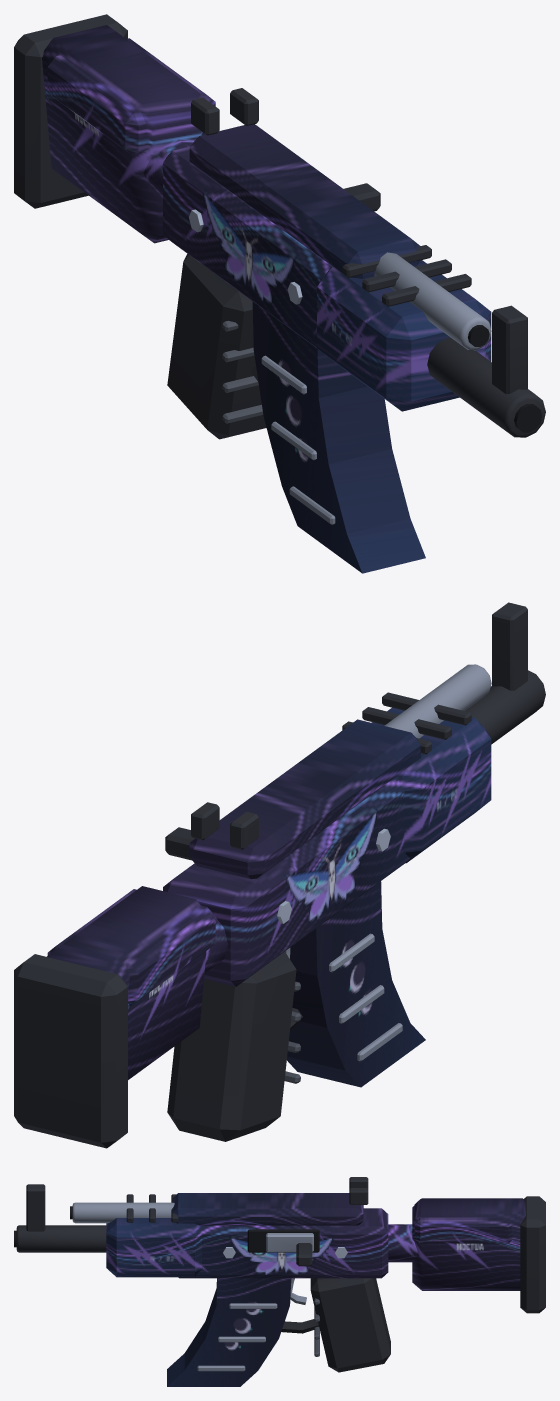
Rendered from AK_DeathMoth.glb.
3 renders of one model, top to bottom at view 1: azimuth 30°, elevation 25°; view 2: azimuth 150°, elevation 25°; view 3: azimuth 270°, elevation 25°, orthographic. The views are drawn at different scales.
Parts seen in each view (by area): view 1: Main, Stock, Magazine; view 2: Main, Stock, Magazine, Bolt; view 3: Main, Stock, Magazine, Bolt.
Part boxes in pixels (x1,y1,x2,y2): Main: [163, 88, 545, 439]; Stock: [14, 14, 215, 243]; Magazine: [252, 301, 425, 573]; Main: [163, 602, 545, 1141]; Stock: [14, 886, 227, 1148]; Magazine: [287, 881, 425, 1087]; Bolt: [165, 827, 194, 860]; Main: [14, 1177, 390, 1372]; Stock: [388, 1196, 545, 1313]; Magazine: [167, 1278, 291, 1386]; Bolt: [266, 1233, 313, 1266].
Size of the model in its own units: 0.635 by 1.34 by 3.33.
Materials: 2 (1 with a texture image).
